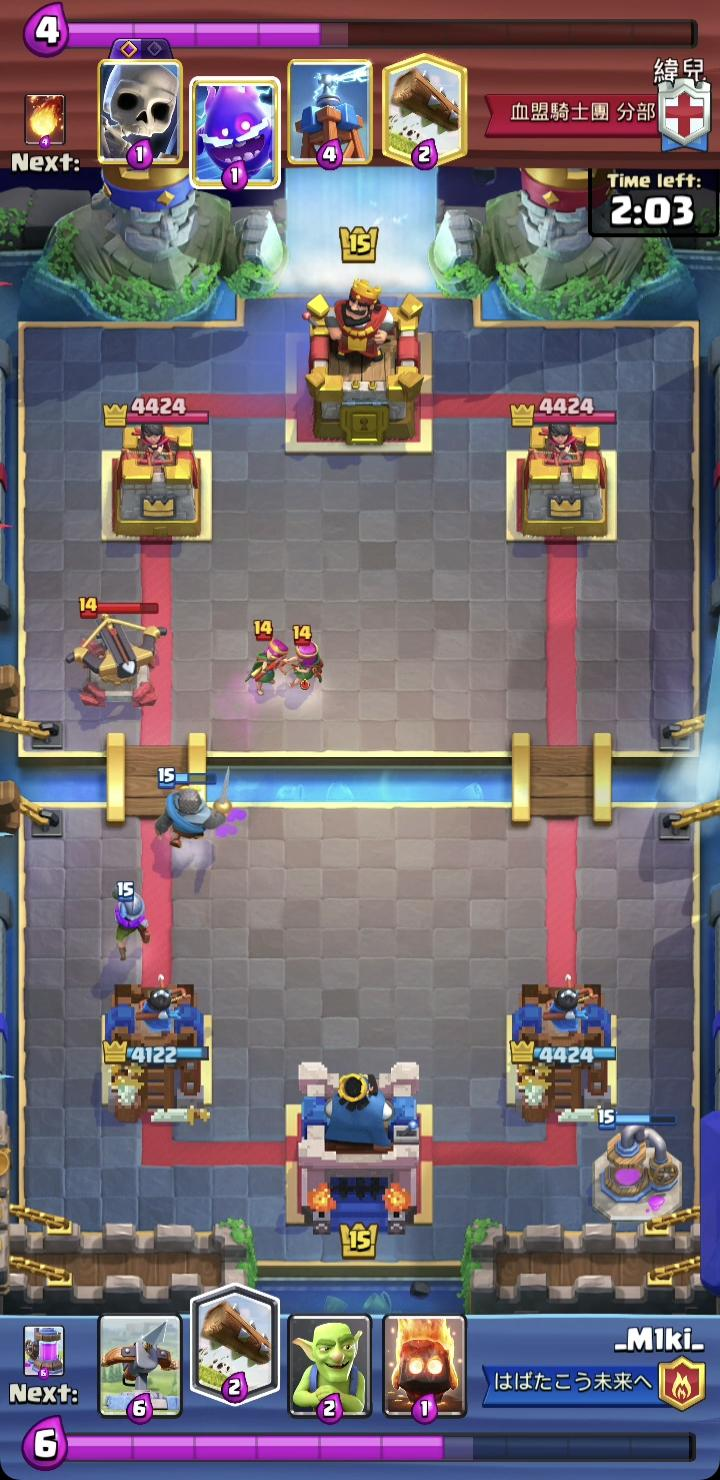ally_elixirpump: (592, 1106, 686, 1225)
ally_knight: (147, 763, 239, 849)
ally_musketeer: (106, 880, 151, 961)
enemy_archer: (278, 619, 328, 698), (245, 616, 287, 698)
enemy_xbow: (65, 596, 171, 710)
